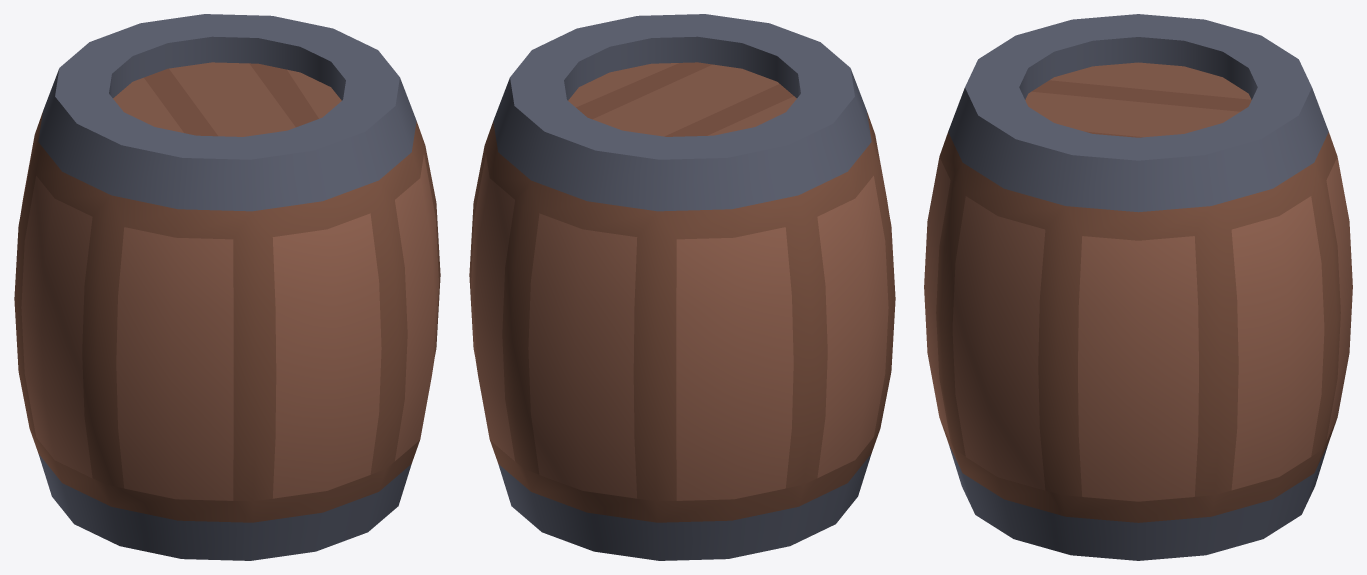
File: barrel_01.fbx
3 renders of one model, left to right at view 1: azimuth 30°, elevation 25°; view 2: azimuth 150°, elevation 25°; view 3: azimuth 270°, elevation 25°, orthographic.
Visible parts, largest first — view 1: barrel_01; view 2: barrel_01; view 3: barrel_01.
Part boxes in pixels (x1,y1,x2,y2): barrel_01: [14, 14, 440, 560]; barrel_01: [469, 14, 895, 560]; barrel_01: [924, 14, 1352, 560].
Size of the model in its own units: 117 by 120 by 117.
